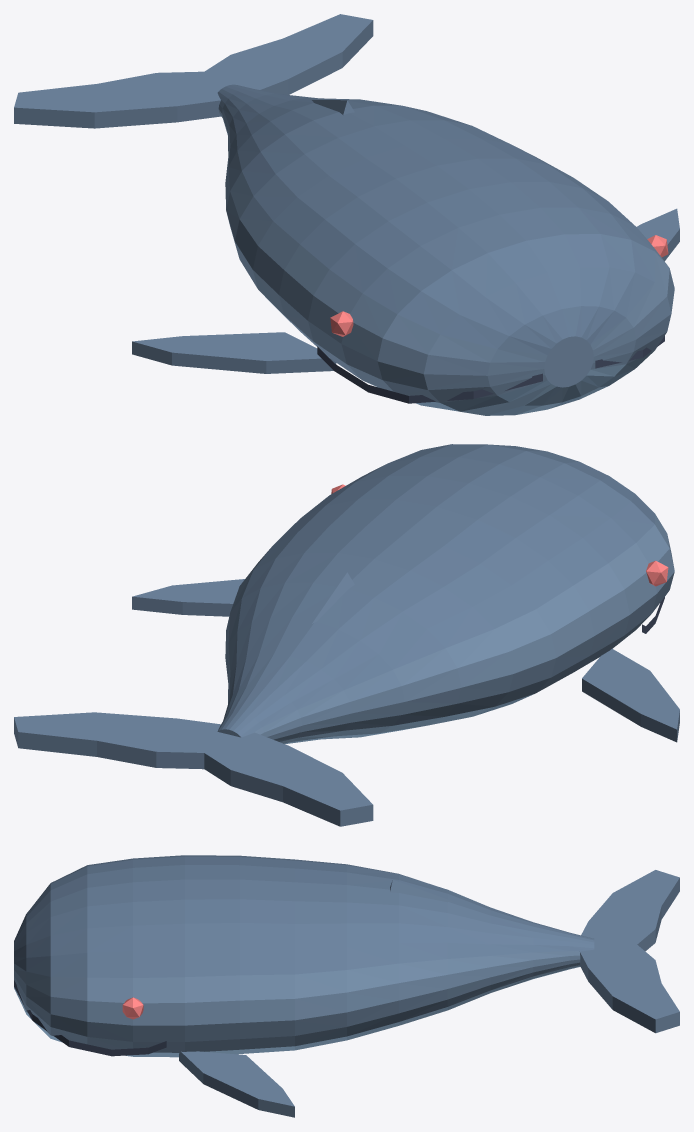
File: WhaleBoss.fbx
3 views of the same model, one above another, from view 1: azimuth 30°, elevation 25°; view 2: azimuth 150°, elevation 25°; view 3: azimuth 270°, elevation 25° (orthographic). The views are drawn at different scales.
Visible parts, largest first — view 1: WhaleBoss; view 2: WhaleBoss; view 3: WhaleBoss.
Boxes of the visible parts, left/top/right/bottom form: WhaleBoss: left=14, top=14, right=679, bottom=415; WhaleBoss: left=14, top=444, right=679, bottom=826; WhaleBoss: left=14, top=855, right=679, bottom=1117.
Size of the model in its own units: 176 by 54.76 by 218.
